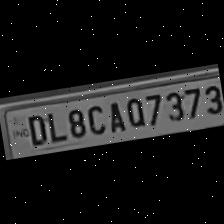3: (160, 88, 186, 124), (199, 82, 223, 118)
7: (140, 90, 164, 128), (180, 84, 203, 121)
8: (61, 104, 88, 140)
A: (103, 97, 126, 134)
C: (82, 99, 108, 136)
D: (22, 110, 50, 146)
L: (43, 107, 66, 143)
Q: (121, 93, 147, 130)
